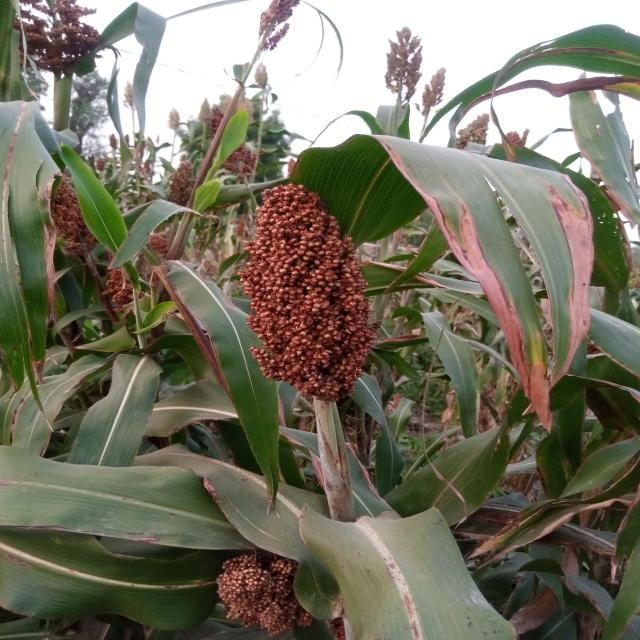RipeSorghum: (220, 169, 378, 402)
